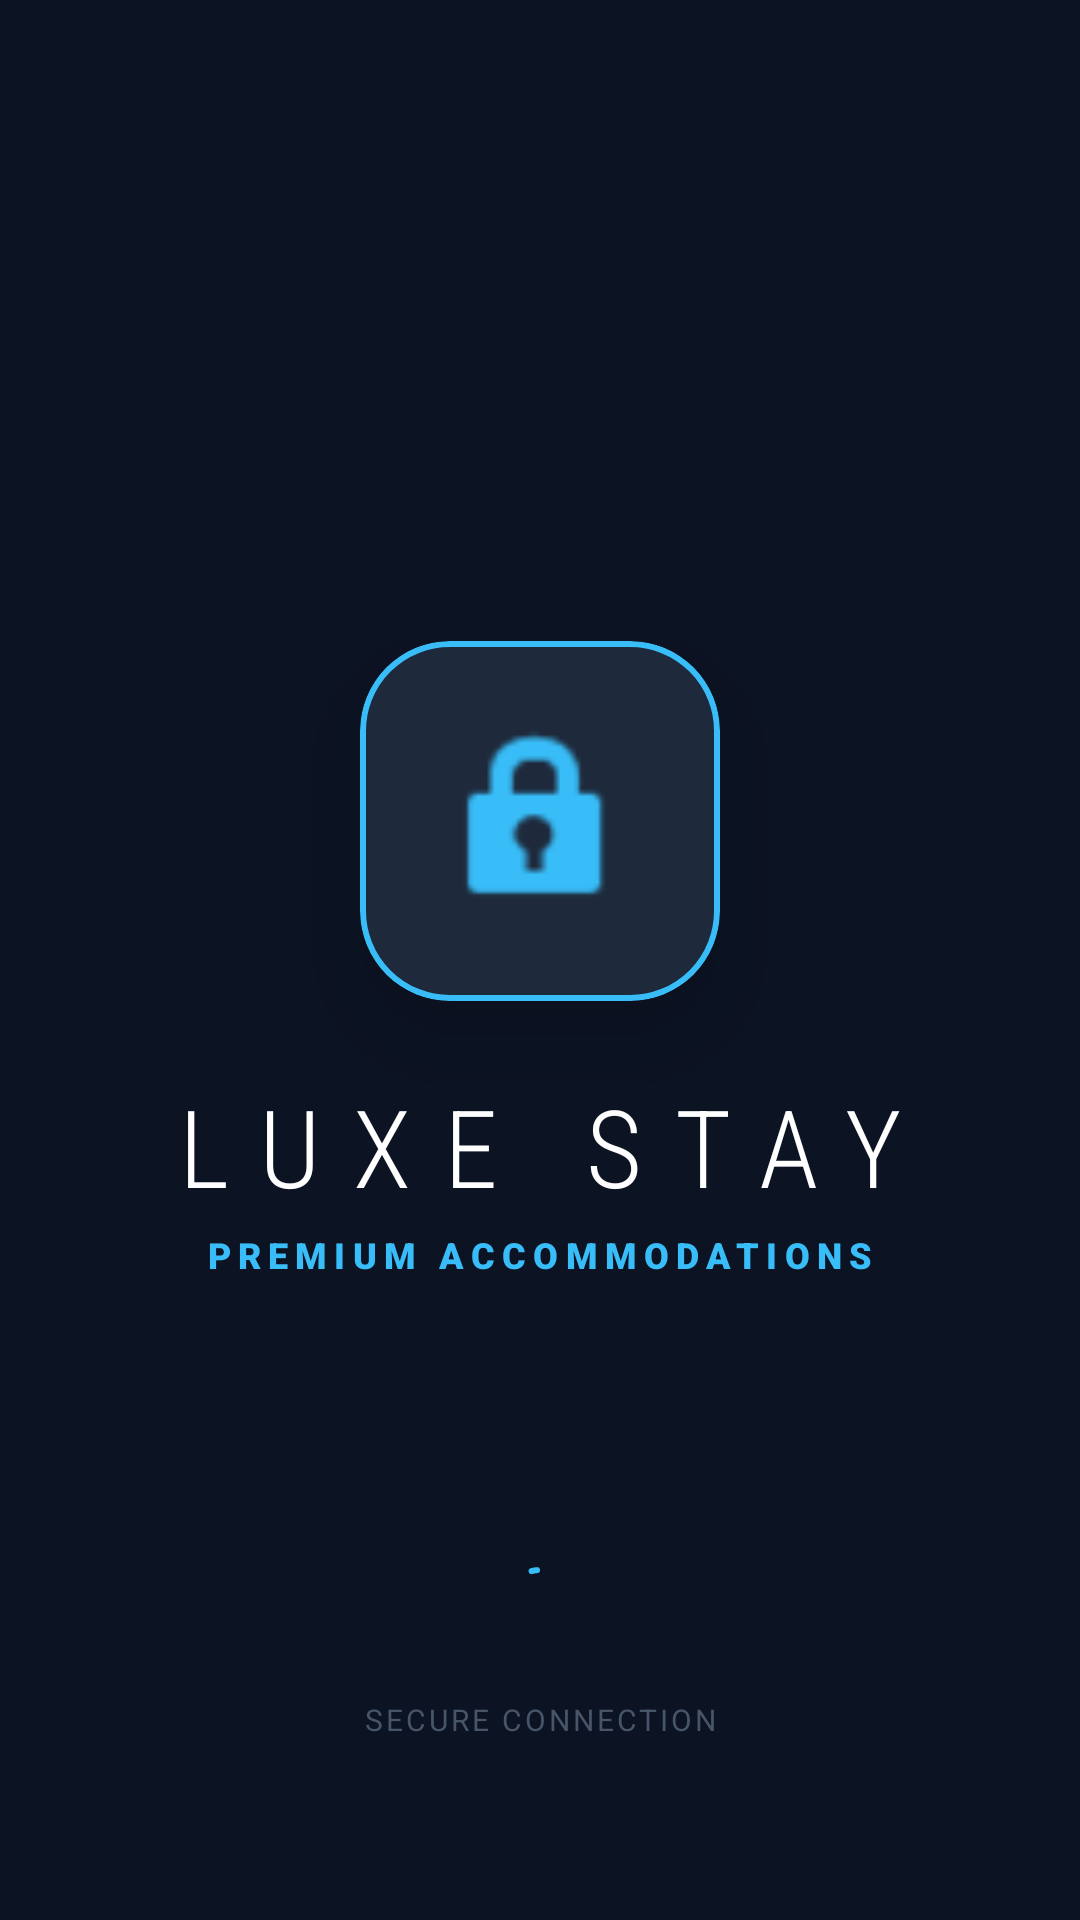

Where icons sit on this 1080×1920 app screen, as box=[x1, y1, x2, y2]:
lock idle: box=[360, 641, 720, 1001]
